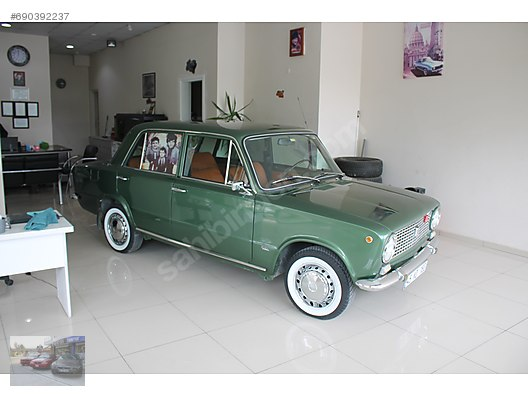murat: (109, 110, 451, 319)
